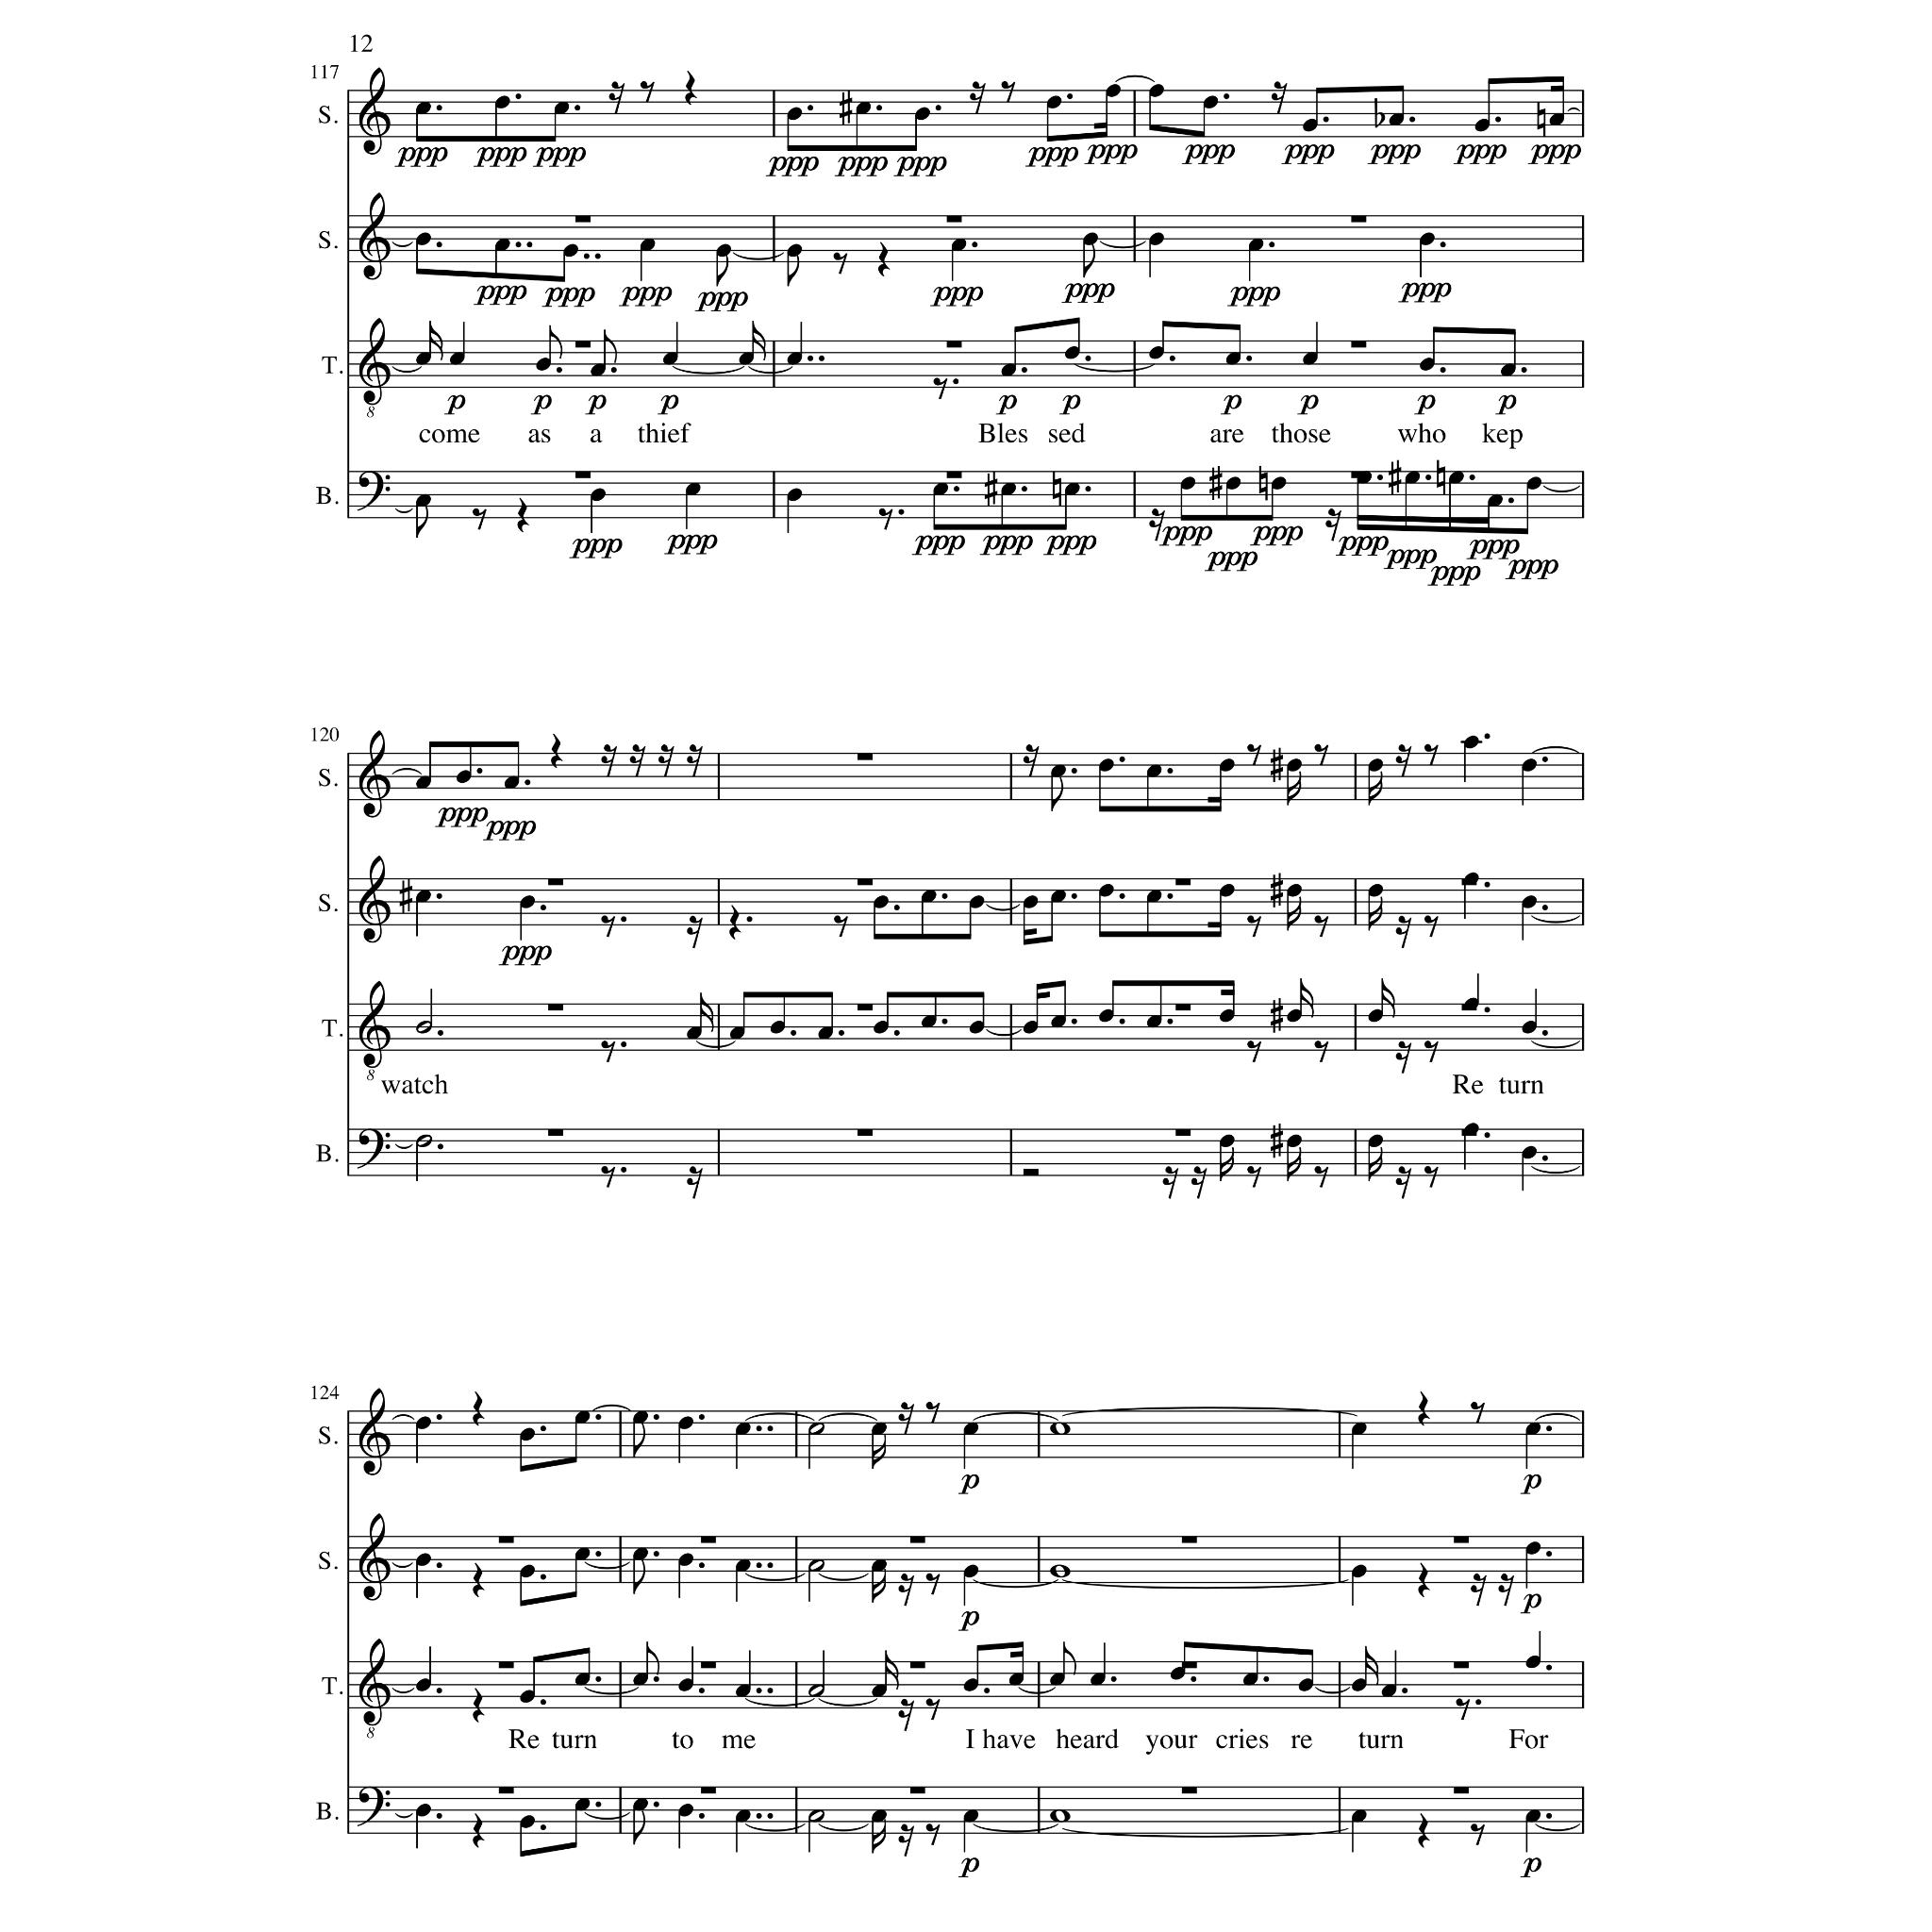fClef: (357, 471, 391, 511), (357, 1129, 391, 1169), (357, 1787, 391, 1828)
flag16thDown: (1219, 1146, 1235, 1182), (1288, 895, 1302, 931), (1288, 771, 1302, 807), (1368, 771, 1382, 807), (1288, 1146, 1302, 1182), (1368, 1146, 1382, 1182), (1368, 895, 1382, 931), (872, 1819, 886, 1852), (872, 1569, 886, 1603), (872, 1435, 886, 1468)
flag16thUp: (1300, 978, 1315, 1019), (1382, 978, 1396, 1019), (701, 993, 715, 1033), (1364, 1645, 1378, 1686), (885, 1651, 899, 1691), (428, 322, 442, 361), (752, 322, 766, 361)
flag8thDown: (1083, 244, 1095, 280), (1051, 777, 1063, 812), (633, 1810, 646, 1845), (416, 504, 428, 538), (717, 253, 729, 287), (787, 253, 800, 287), (633, 1424, 646, 1458), (633, 1560, 646, 1594)
flag8thUp: (548, 326, 563, 359), (603, 331, 617, 364), (646, 1642, 660, 1675), (1063, 1642, 1076, 1675)
gClef: (359, 67, 391, 156), (359, 193, 391, 281), (359, 318, 391, 407), (359, 731, 391, 819), (359, 855, 391, 943), (359, 980, 391, 1069), (359, 1387, 391, 1476), (359, 1513, 391, 1601), (359, 1638, 391, 1727)
noteheadBlack: (1355, 471, 1373, 485), (1000, 481, 1017, 495), (872, 895, 890, 909), (872, 1021, 890, 1035), (573, 1410, 591, 1424), (573, 1546, 591, 1560), (573, 1672, 591, 1686), (573, 1798, 591, 1812), (1247, 239, 1263, 253), (1302, 119, 1318, 133), (1203, 96, 1219, 110), (1106, 83, 1122, 97), (1148, 83, 1164, 97), (1148, 345, 1164, 359), (1063, 345, 1079, 359), (1063, 481, 1079, 495), (1447, 471, 1463, 485), (1474, 119, 1490, 133), (1405, 471, 1421, 485), (1419, 357, 1435, 372), (1488, 494, 1504, 508), (536, 357, 552, 372), (554, 101, 570, 115), (563, 244, 579, 258), (494, 96, 510, 110), (494, 239, 510, 253), (639, 239, 655, 253), (416, 101, 432, 115), (416, 494, 432, 508), (932, 481, 948, 495), (855, 101, 870, 115), (1046, 96, 1062, 110), (950, 239, 966, 253), (685, 481, 701, 495), (715, 244, 731, 258), (786, 244, 801, 258), (786, 488, 801, 502), (1286, 757, 1302, 771), (1286, 883, 1302, 897), (1286, 1134, 1302, 1148), (1368, 757, 1384, 771), (1368, 883, 1384, 897), (1368, 1134, 1384, 1148), (1146, 764, 1162, 778), (1099, 757, 1115, 771), (1099, 883, 1115, 897), (1219, 757, 1235, 771), (1219, 883, 1235, 897), (1219, 1134, 1235, 1148), (1522, 757, 1537, 771), (1522, 895, 1537, 909), (1522, 1021, 1537, 1035), (1463, 872, 1479, 886), (1463, 998, 1479, 1012), (456, 770, 472, 784), (520, 895, 536, 909), (686, 1026, 702, 1040), (1023, 895, 1039, 909), (1023, 1021, 1039, 1035), (729, 1026, 745, 1040), (968, 895, 984, 909), (968, 1021, 984, 1035), (1051, 764, 1067, 778), (770, 1021, 786, 1035), (817, 1026, 833, 1040), (1169, 1667, 1185, 1681), (1242, 1672, 1258, 1686), (1090, 1672, 1106, 1686), (1352, 1677, 1368, 1691), (1297, 1677, 1313, 1691), (1352, 1422, 1368, 1437), (962, 1422, 978, 1437), (962, 1677, 978, 1691), (1008, 1672, 1024, 1686), (1049, 1672, 1065, 1686), (1525, 1422, 1541, 1437), (1525, 1541, 1541, 1555), (633, 1672, 649, 1686), (633, 1410, 649, 1424), (633, 1546, 649, 1560), (633, 1798, 649, 1812), (416, 1415, 432, 1430), (416, 1677, 432, 1691), (416, 1803, 432, 1817), (870, 1422, 886, 1437), (870, 1559, 886, 1573), (678, 1415, 694, 1430), (678, 1803, 694, 1817), (678, 1677, 694, 1691), (734, 1559, 750, 1573), (734, 1422, 750, 1437), (1525, 478, 1543, 490), (1000, 364, 1017, 377), (591, 488, 605, 502), (520, 1428, 534, 1442), (520, 1815, 534, 1829), (1270, 478, 1286, 490), (1224, 478, 1240, 490), (1224, 352, 1240, 364), (1302, 352, 1318, 364), (1083, 234, 1099, 246), (1148, 234, 1164, 246), (1180, 478, 1196, 490), (1419, 234, 1435, 246), (1548, 113, 1564, 126), (1500, 364, 1516, 377), (662, 352, 678, 364), (449, 352, 465, 364), (416, 234, 432, 246), (416, 352, 432, 364), (913, 108, 929, 120), (786, 108, 801, 120), (738, 352, 754, 364), (786, 352, 801, 364), (1286, 1010, 1302, 1023), (1368, 1010, 1384, 1023), (1146, 890, 1162, 902), (1146, 1016, 1162, 1028), (1099, 1010, 1115, 1023), (1219, 1010, 1235, 1023), (1522, 1146, 1537, 1159), (1463, 736, 1479, 748), (1463, 1123, 1479, 1136), (416, 777, 432, 789), (416, 890, 432, 902), (1051, 890, 1067, 902), (1051, 1016, 1067, 1028), (920, 890, 936, 902), (920, 1016, 936, 1028), (1352, 1566, 1368, 1578), (1352, 1810, 1368, 1822), (962, 1810, 978, 1822), (962, 1566, 978, 1578), (1380, 1684, 1396, 1697), (1525, 1656, 1541, 1668), (1525, 1810, 1541, 1822), (416, 1553, 432, 1566), (870, 1684, 886, 1697), (870, 1810, 886, 1822), (678, 1553, 694, 1566), (734, 1684, 750, 1697), (734, 1810, 750, 1822), (1389, 113, 1403, 126), (591, 364, 605, 377), (504, 777, 518, 789), (520, 1566, 534, 1578), (520, 1690, 534, 1702)
noteheadHalf: (807, 1422, 824, 1437), (807, 1559, 824, 1573), (416, 1134, 432, 1148), (807, 1684, 824, 1697), (807, 1810, 824, 1822), (416, 1021, 432, 1033)
noteheadWhole: (1049, 1421, 1070, 1435), (1049, 1566, 1070, 1578), (1049, 1810, 1070, 1822)
rest16th: (1270, 81, 1288, 115), (609, 81, 626, 115), (1162, 1166, 1180, 1200), (600, 745, 617, 778), (1023, 745, 1040, 778), (1497, 1573, 1514, 1606), (897, 1573, 915, 1606), (897, 1698, 915, 1732), (897, 1824, 915, 1858), (1148, 510, 1166, 541), (897, 1403, 915, 1435), (970, 81, 985, 115), (1191, 1166, 1207, 1200), (1396, 745, 1412, 778), (1396, 915, 1412, 948), (1396, 1040, 1412, 1074), (1396, 1166, 1412, 1200), (686, 745, 702, 778), (686, 915, 702, 948), (686, 1166, 702, 1200), (630, 745, 646, 778), (658, 745, 674, 778), (1470, 1573, 1486, 1606), (1325, 510, 1341, 541)
rest8th: (932, 377, 948, 400), (832, 253, 847, 276), (878, 508, 893, 531), (1246, 743, 1261, 766), (1246, 915, 1261, 938), (1246, 1040, 1261, 1063), (1246, 1166, 1261, 1189), (600, 1040, 616, 1063), (600, 915, 616, 938), (600, 1166, 616, 1189), (925, 1401, 941, 1424), (925, 1573, 941, 1596), (925, 1698, 941, 1721), (925, 1824, 941, 1845), (640, 81, 655, 104), (472, 508, 487, 531), (1001, 81, 1016, 104), (1315, 743, 1329, 766), (1315, 915, 1329, 938), (1315, 1040, 1329, 1063), (1315, 1166, 1329, 1189), (1424, 743, 1438, 766), (1424, 915, 1438, 938), (1424, 1040, 1438, 1063), (1424, 1166, 1438, 1189), (833, 915, 847, 938), (1470, 1401, 1484, 1424), (1456, 1698, 1470, 1721), (1470, 1824, 1484, 1845)
restHalf: (1023, 1169, 1039, 1177)
restQuarter: (878, 241, 890, 278), (550, 732, 563, 770), (729, 904, 741, 941), (1417, 1812, 1430, 1849), (472, 1812, 485, 1849), (517, 497, 529, 533), (685, 71, 697, 106), (1417, 1391, 1430, 1426), (1417, 1562, 1430, 1598), (472, 1391, 485, 1426), (472, 1562, 485, 1598), (472, 1688, 485, 1723)
restWhole: (947, 340, 962, 349), (1350, 340, 1366, 349), (575, 340, 591, 349), (1175, 878, 1191, 886), (856, 1129, 872, 1138), (1175, 1003, 1191, 1012), (856, 1003, 872, 1012), (856, 878, 872, 886), (1175, 1129, 1191, 1138), (1461, 878, 1477, 886), (1461, 1003, 1477, 1012), (1461, 1129, 1477, 1138), (547, 878, 563, 886), (547, 1003, 563, 1012), (547, 1129, 563, 1138), (947, 216, 962, 223), (947, 472, 962, 479), (1350, 216, 1366, 223), (1350, 472, 1366, 479), (575, 216, 591, 223), (575, 472, 591, 479), (856, 754, 872, 761), (1180, 1787, 1196, 1794), (1180, 1661, 1196, 1668), (1180, 1536, 1196, 1543), (701, 1661, 717, 1668), (701, 1787, 717, 1794), (701, 1536, 717, 1543), (909, 1787, 925, 1794), (909, 1661, 925, 1668), (909, 1536, 925, 1543), (1453, 1536, 1468, 1543), (1453, 1661, 1468, 1668), (1453, 1787, 1468, 1794), (497, 1787, 513, 1794), (497, 1536, 513, 1543), (497, 1661, 513, 1668)
